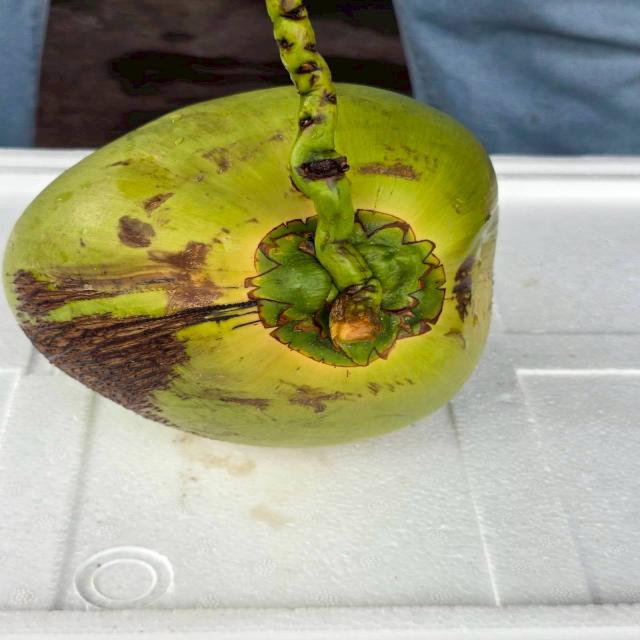coco_1.5: (194, 173, 516, 395)
